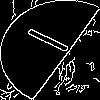I: (25, 25, 82, 60)
